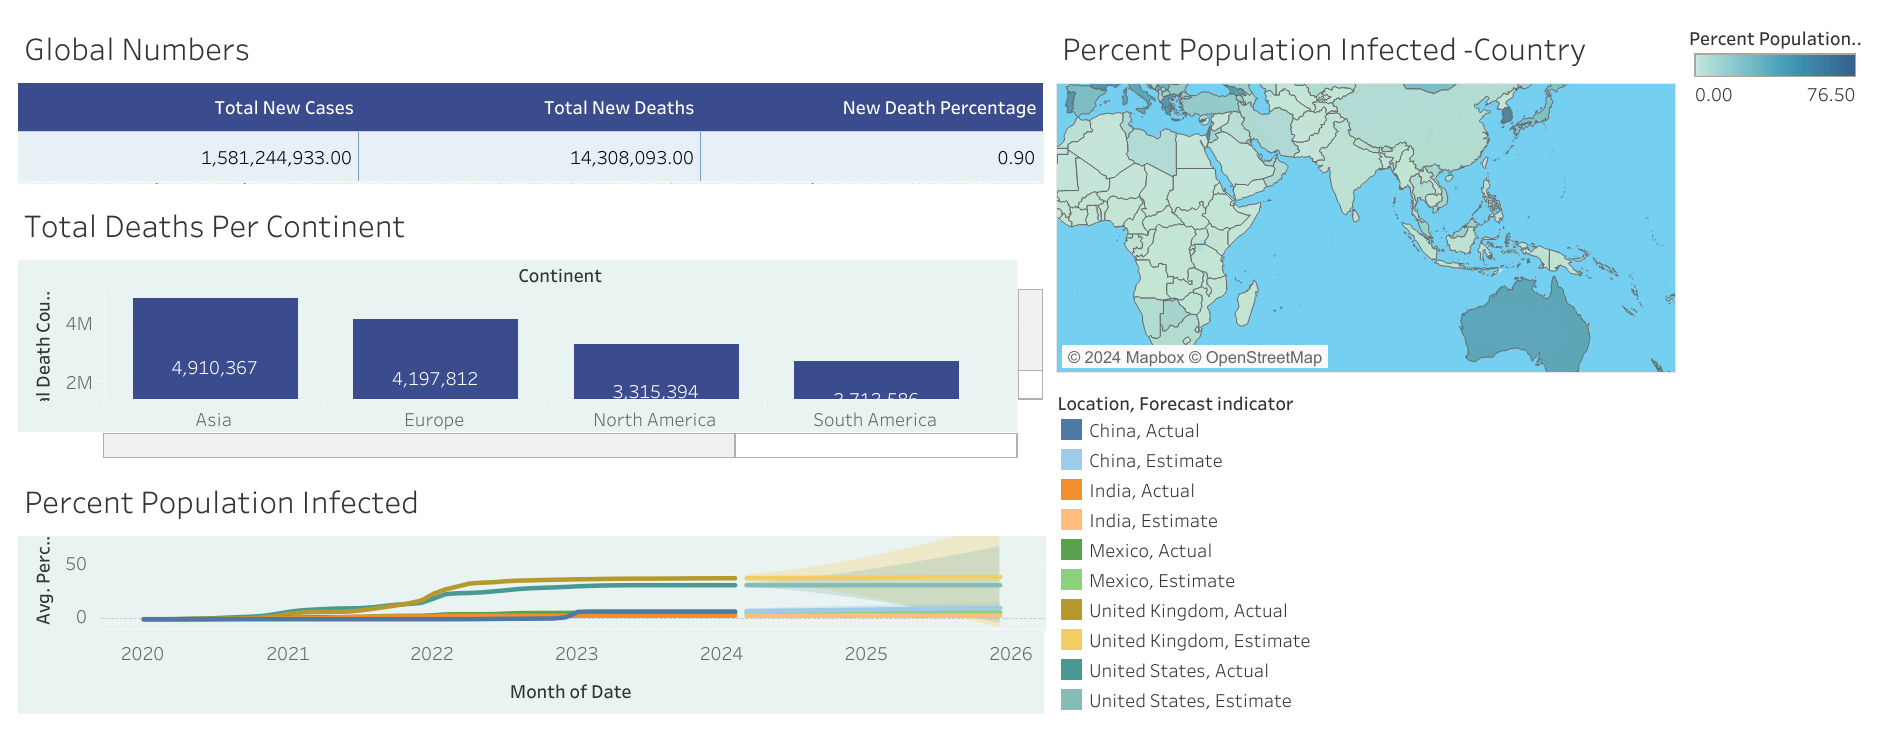

This screenshot's page, from the dashboard's own definition file:
{"tool":"tableau","page":{"name":"Dashboard 1","canvas":[1000,1000],"units":"permille","ordinal":0},"visuals":[{"type":"worksheet","title":"Sheet 1","mark":"Automatic","box":[5,9.9,627.7,245]},{"type":"worksheet","title":"Sheet 3","mark":"Automatic","box":[632.7,9.9,263.1,627.8]},{"type":"legend","title":"Sheet 3","param":"[federated.1ch0lm30w5kjgb11p061d0ht7eh0].[sum:PercentPopulationInfected:qk]","box":[895.8,9.9,99.3,100.5]},{"type":"worksheet","title":"Sheet 2","mark":"Automatic","rows":["TotalDeathCount"],"cols":["location"],"box":[5,255,627.7,382.8]},{"type":"worksheet","title":"Sheet 4","mark":"Automatic","rows":["PercentPopulationInfected"],"cols":["date"],"box":[5,637.7,627.7,352.4]},{"type":"legend","title":"Sheet 4","param":"[federated.1qn4pom1yst9xu1b90cfl0xhitmy].[none:location:nk]\n[federated.1qn4pom1y","box":[632.7,637.7,263.1,352.4]}]}

Visuals, with their boxes on the dashboard's canvas, which has no fixed pixel size, in thousandths of its width and height (x1, y1, x2, y2). These are canvas units, not pixel positions in the 1880x731 screenshot, which may show the page scaled, cropped or inside an application window:
"Sheet 1" worksheet: 5/10/633/255
"Sheet 3" worksheet: 633/10/896/638
"Sheet 3" legend: 896/10/995/110
"Sheet 2" worksheet: 5/255/633/638
"Sheet 4" worksheet: 5/638/633/990
"Sheet 4" legend: 633/638/896/990
